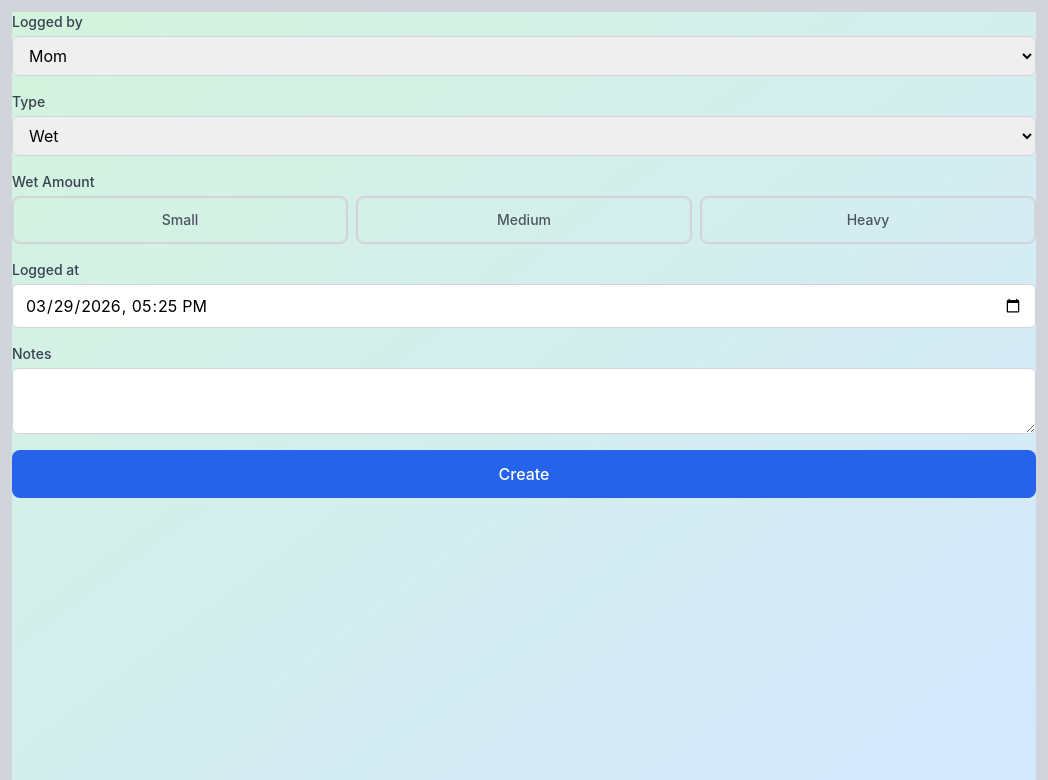
Test: DiaperForm — dirty colour selector › shows colour buttons when type is both
This screenshot has width=1048, height=780.
Select "Both" in the dropdown showing "Wet" below "Type" at coordinates (524, 136), box [12,116,1036,156]
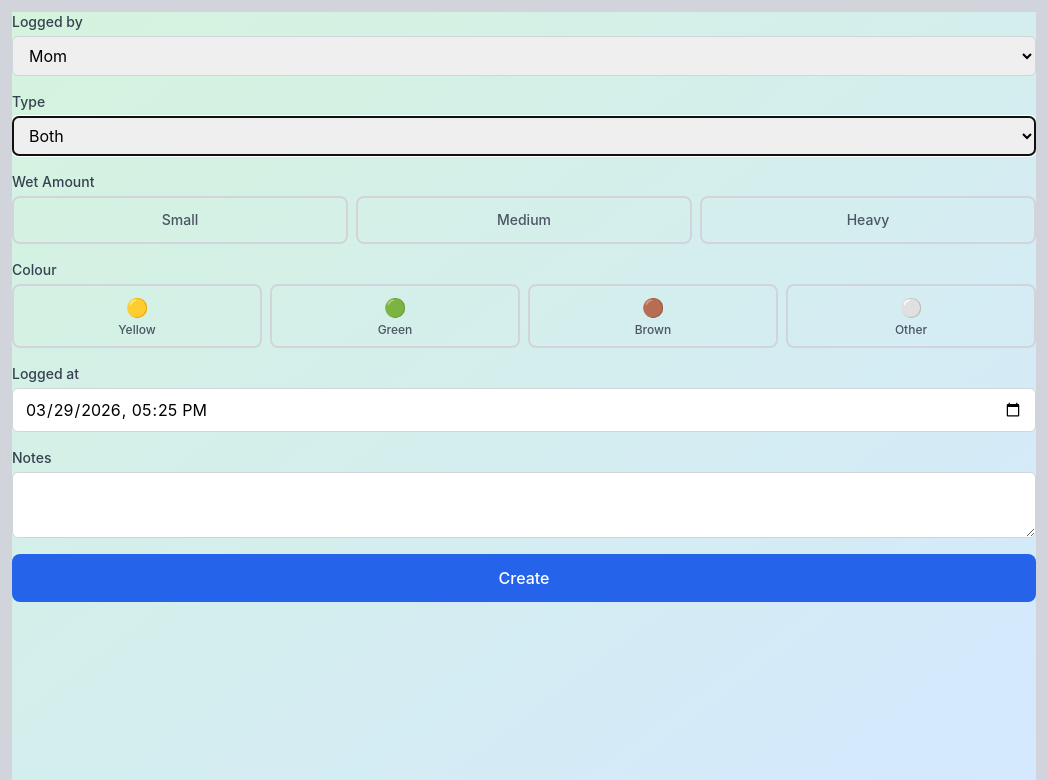
expect the text "Colour" is shown: met, box [12,261,56,278]
